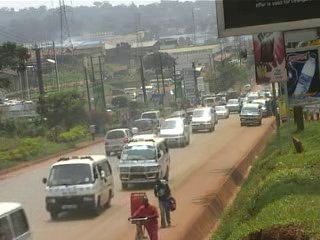Car: (156, 116, 194, 148), (102, 128, 135, 156), (188, 105, 217, 135), (131, 118, 158, 136), (213, 102, 230, 119), (224, 97, 241, 113)
